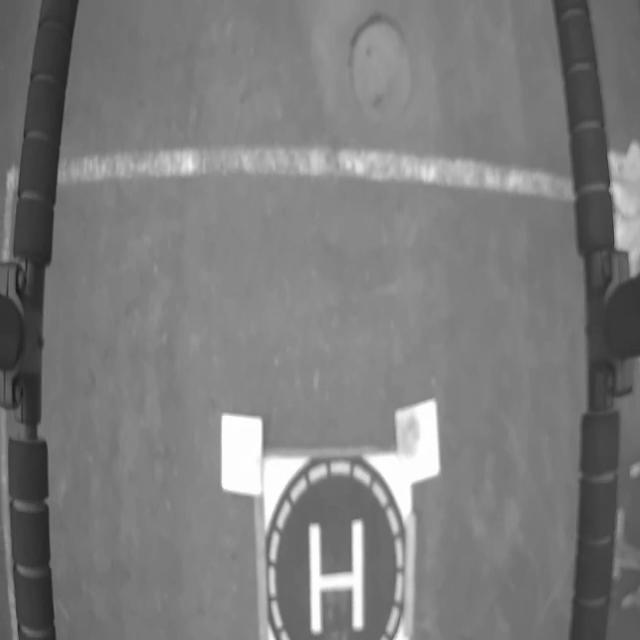Helipad: (309, 517, 366, 632)
